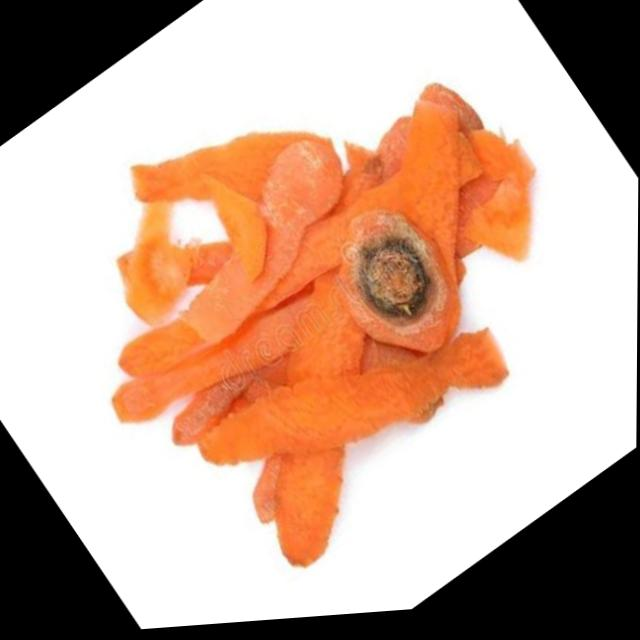organic: (114, 116, 526, 564), (288, 209, 502, 392), (119, 153, 266, 323), (253, 445, 343, 565)
